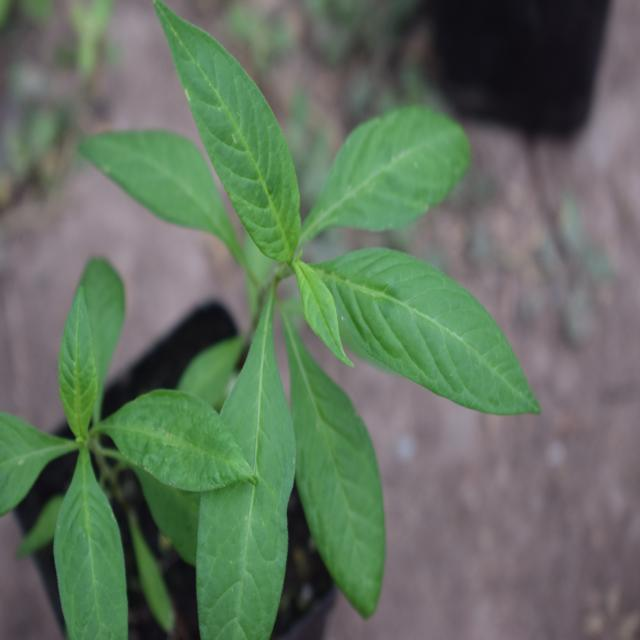white_smart_weed: (161, 36, 525, 616)
